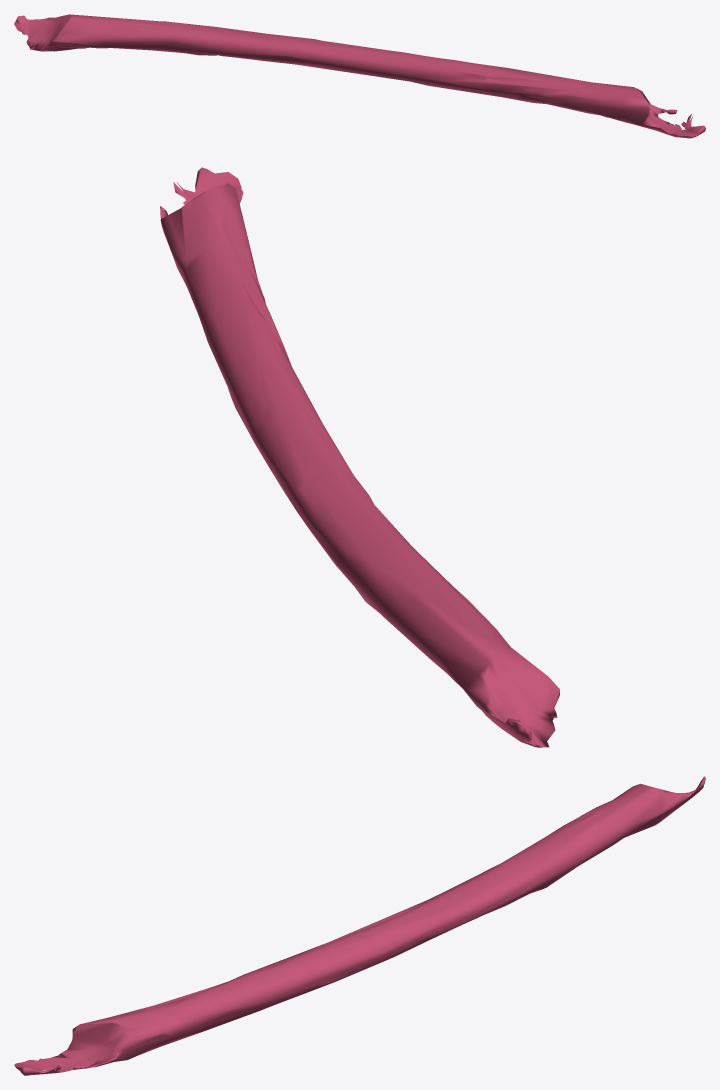
The picture shows the model from 3 angles, top to bottom: view 1: azimuth 30°, elevation 25°; view 2: azimuth 150°, elevation 25°; view 3: azimuth 270°, elevation 25°; orthographic projection. The views are drawn at different scales.
Visible parts, largest first — view 1: 左侧腹股沟韧带; view 2: 左侧腹股沟韧带; view 3: 左侧腹股沟韧带.
Part boxes in pixels (box(x1,y1,x2,y2)): 左侧腹股沟韧带: box(14, 14, 705, 138); 左侧腹股沟韧带: box(160, 167, 559, 747); 左侧腹股沟韧带: box(14, 776, 705, 1075).
Bounding box in the file's own units: 0.154 × 0.0137 × 0.1668.
